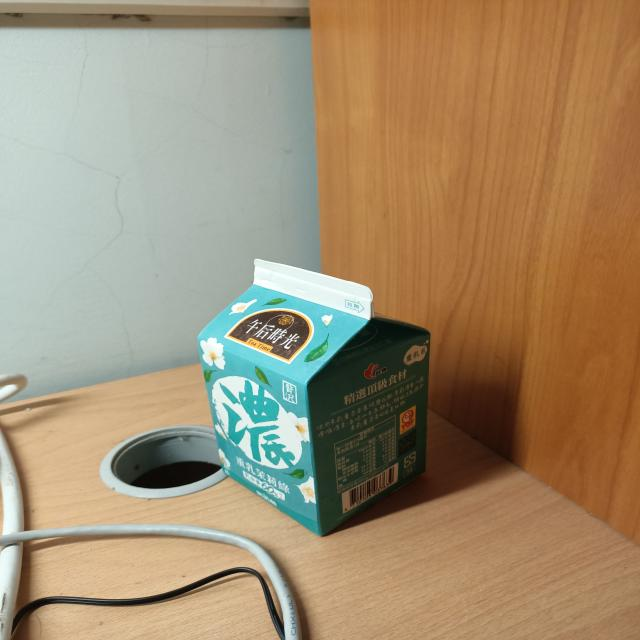Known_MilkGreenTea: (192, 257, 446, 539)
